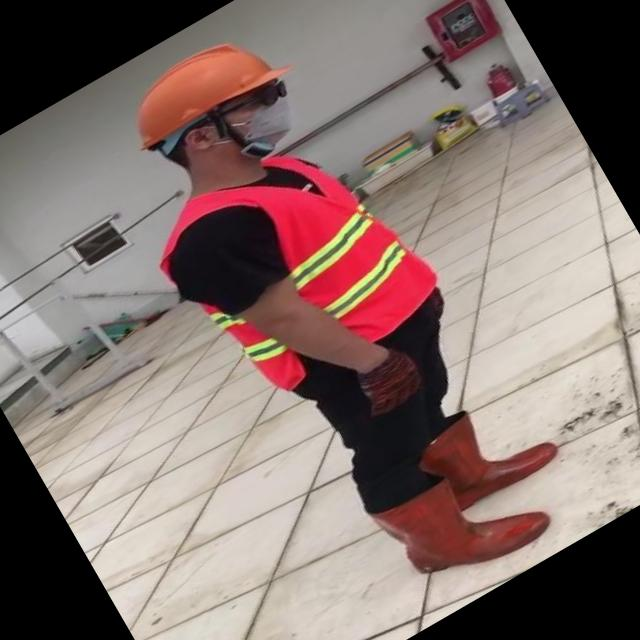hard_hat: (105, 13, 300, 166)
safety_vest: (137, 111, 449, 415)
vehicle: (57, 0, 624, 640)
work_boots: (371, 436, 556, 604), (412, 383, 564, 519)
